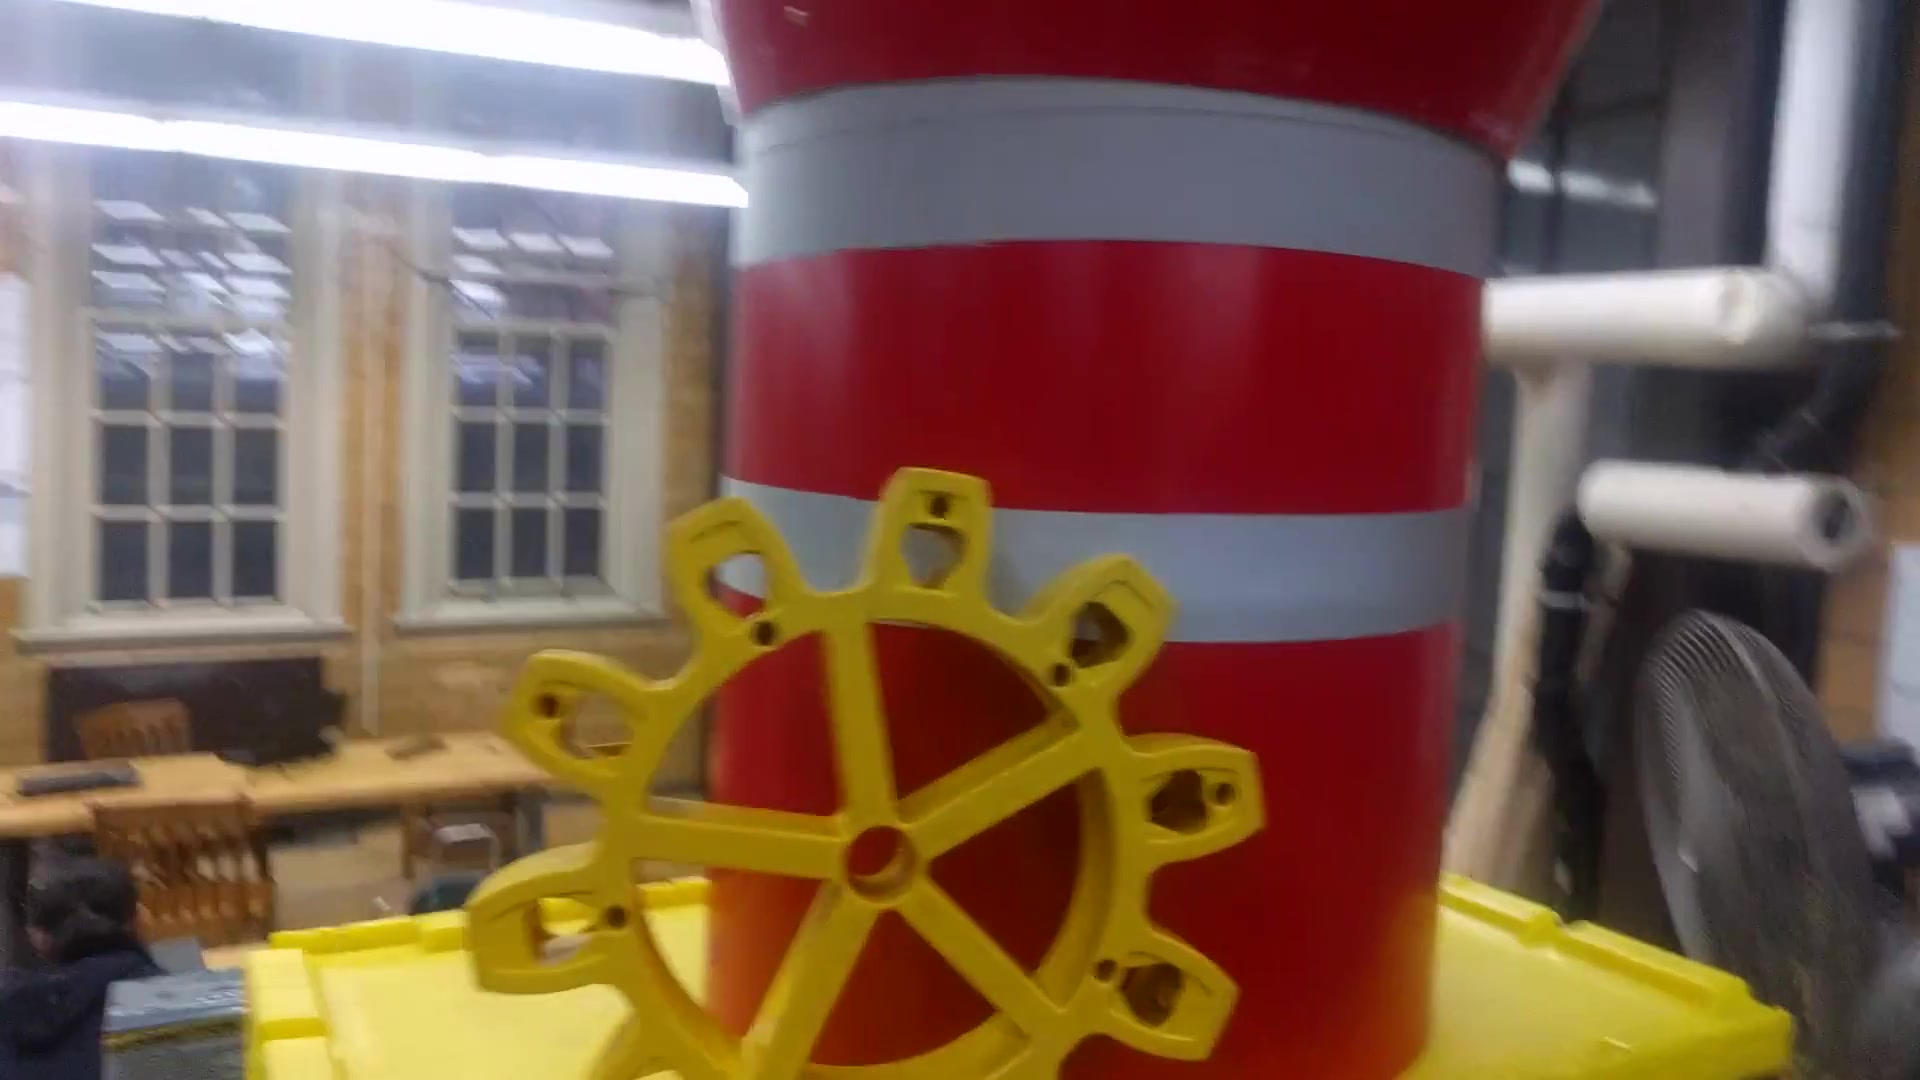gear: (435, 458, 1273, 1079)
